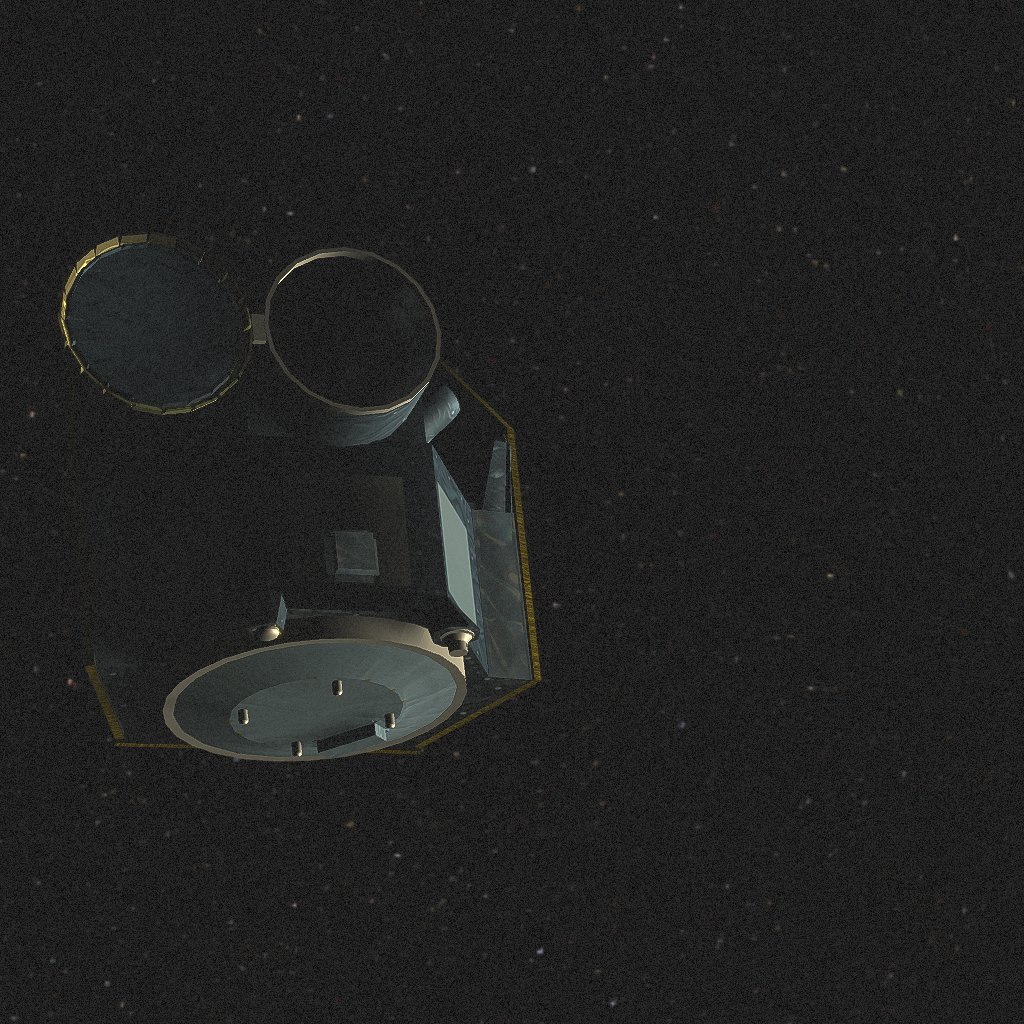cheops: (58, 232, 541, 761)
